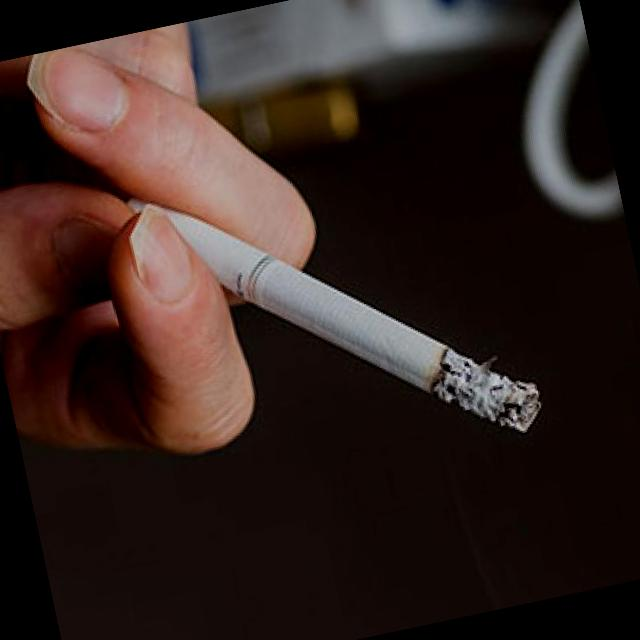smoke: (196, 169, 553, 497)
